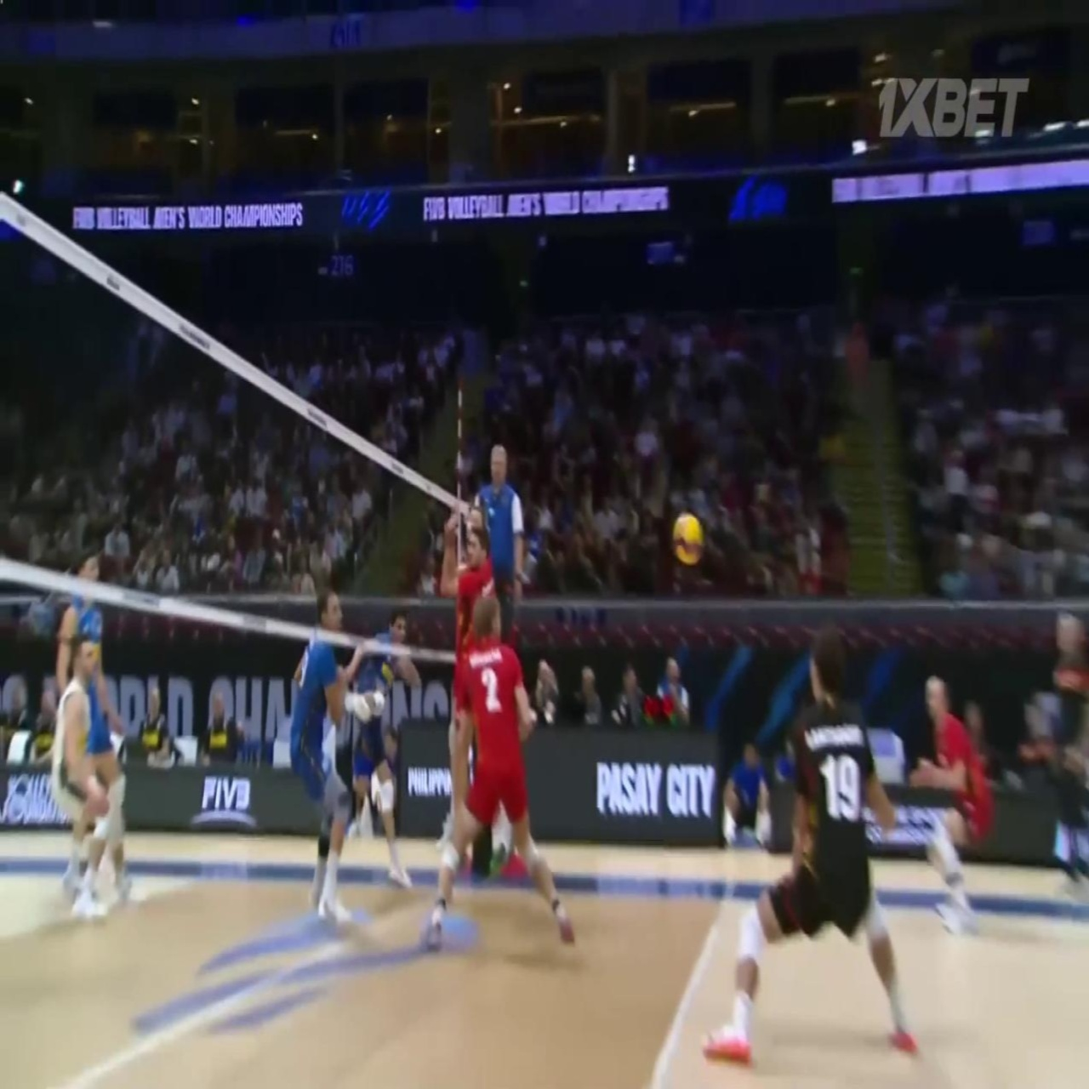ball: (670, 509, 703, 564)
